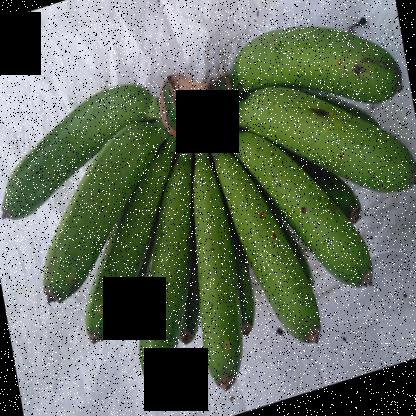unripe: (35, 113, 165, 319), (203, 88, 415, 193), (0, 68, 130, 238), (180, 157, 248, 400), (138, 143, 202, 393), (219, 15, 397, 99)
